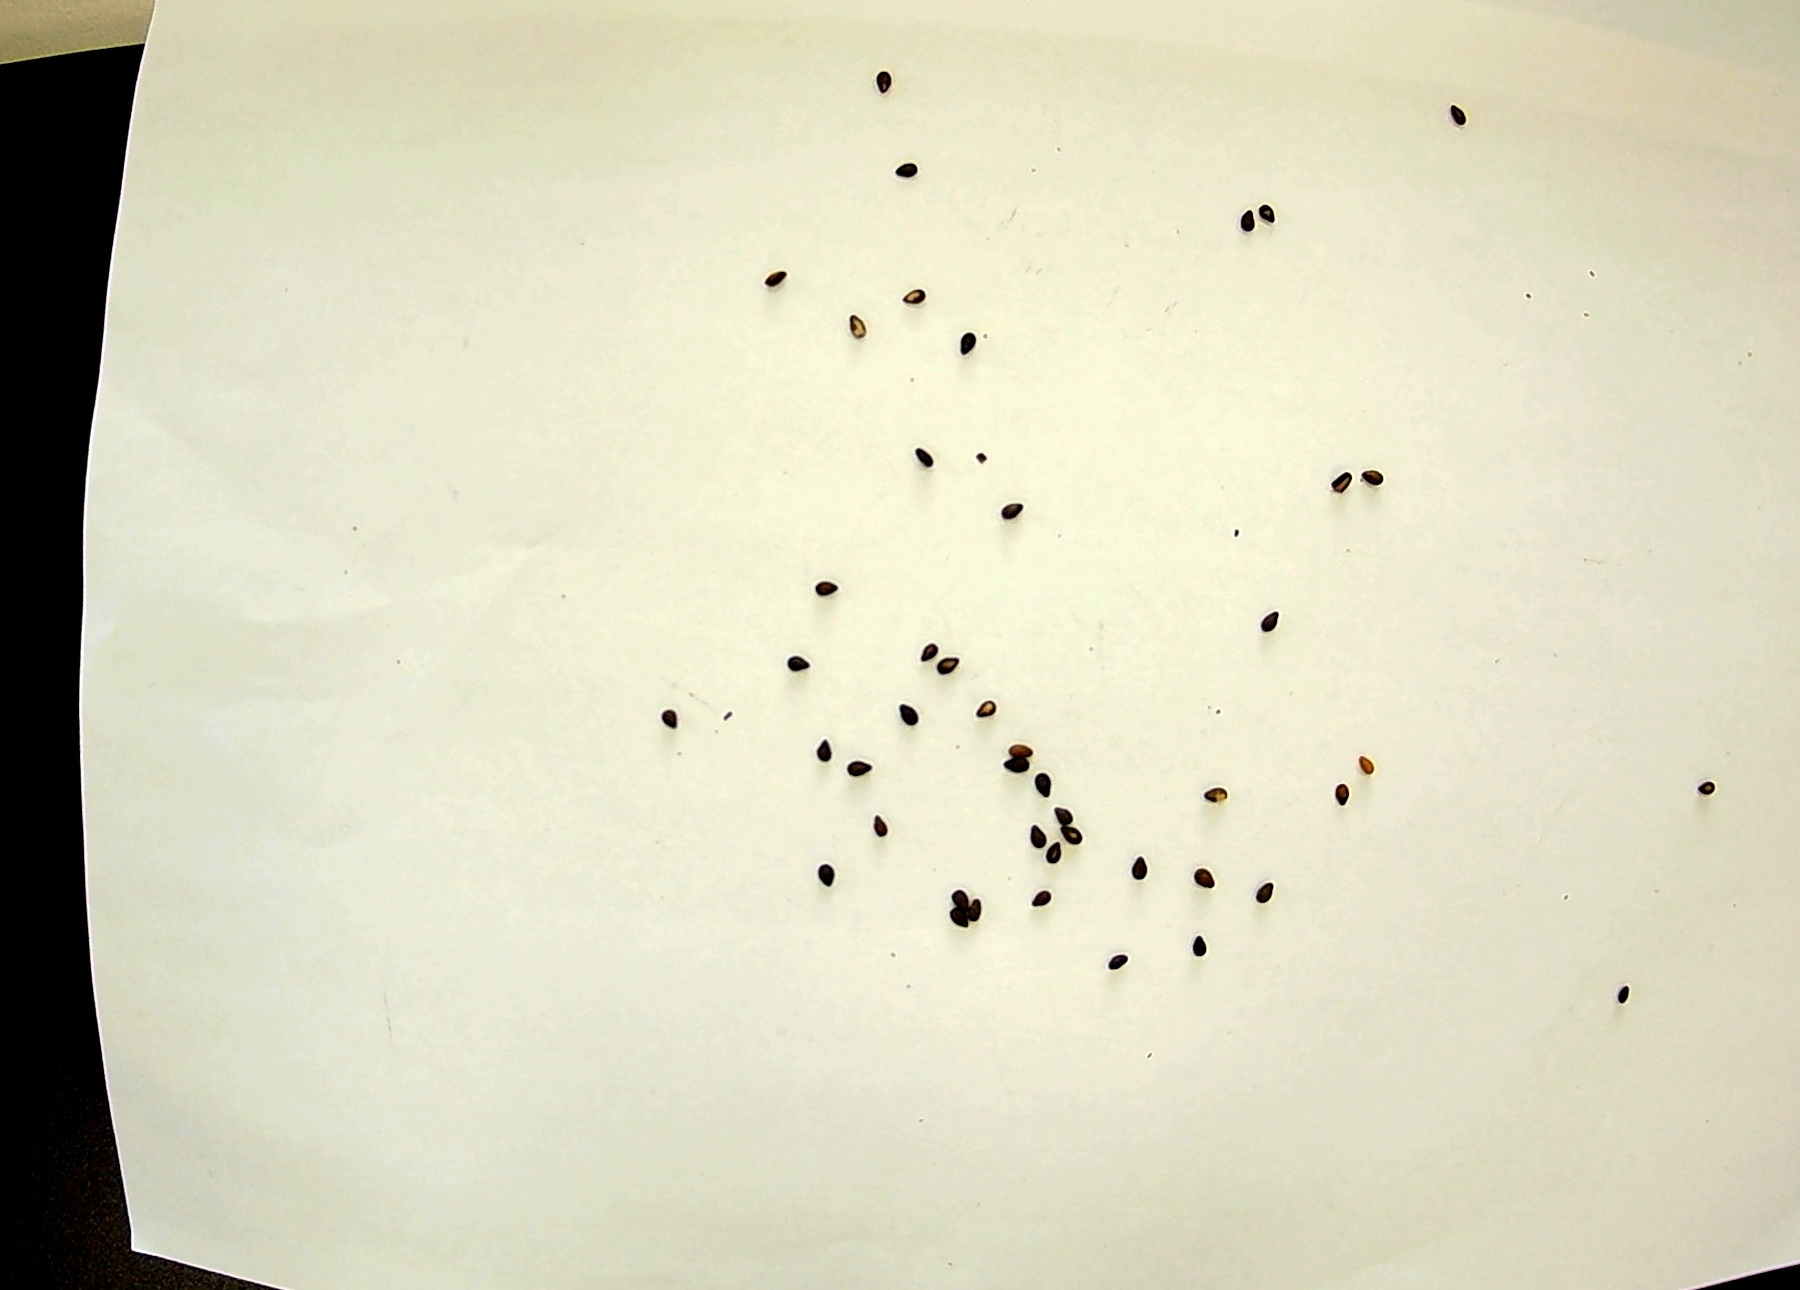sesami: (1173, 935, 1213, 980), (1199, 775, 1238, 820), (1098, 940, 1137, 984), (970, 884, 1009, 928), (932, 866, 971, 910), (860, 807, 899, 852), (844, 741, 883, 786), (800, 727, 839, 772), (1185, 859, 1224, 902), (1120, 847, 1160, 891), (1023, 887, 1062, 930), (931, 913, 970, 956), (802, 854, 841, 898), (885, 704, 924, 747), (964, 690, 1003, 733), (1245, 873, 1282, 917), (1358, 461, 1400, 496), (1221, 207, 1263, 242), (946, 327, 988, 362), (833, 313, 875, 348), (880, 161, 922, 195), (1026, 842, 1067, 875), (1247, 603, 1289, 637), (1319, 466, 1360, 500), (1253, 193, 1295, 226), (1443, 95, 1485, 128), (989, 497, 1031, 531), (903, 445, 945, 479), (889, 281, 931, 314), (749, 261, 791, 295), (871, 66, 913, 99), (940, 653, 978, 690), (809, 570, 847, 606), (776, 649, 813, 685), (652, 702, 689, 739), (999, 727, 1037, 764), (1027, 769, 1065, 806), (1035, 790, 1073, 826), (1012, 814, 1049, 850), (868, 64, 910, 96), (903, 625, 940, 660), (991, 752, 1028, 787), (1063, 826, 1101, 861), (1688, 773, 1723, 806), (1319, 780, 1353, 813), (1598, 984, 1631, 1016), (1351, 744, 1384, 776)
